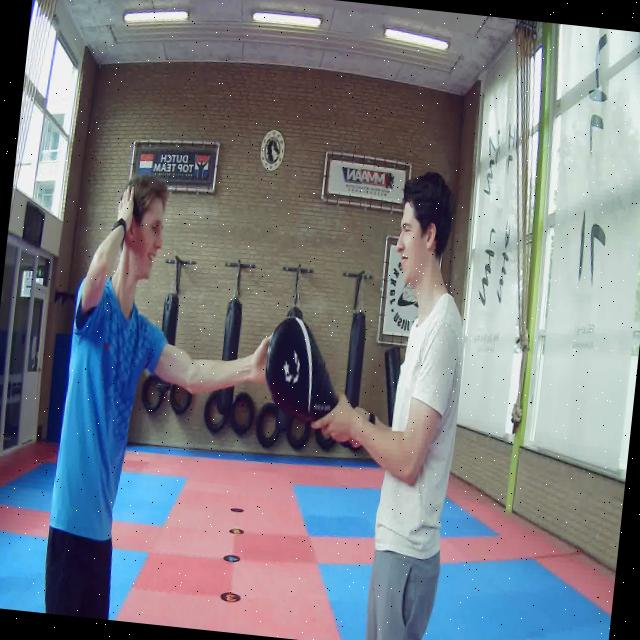paddle: (264, 314, 340, 423)
